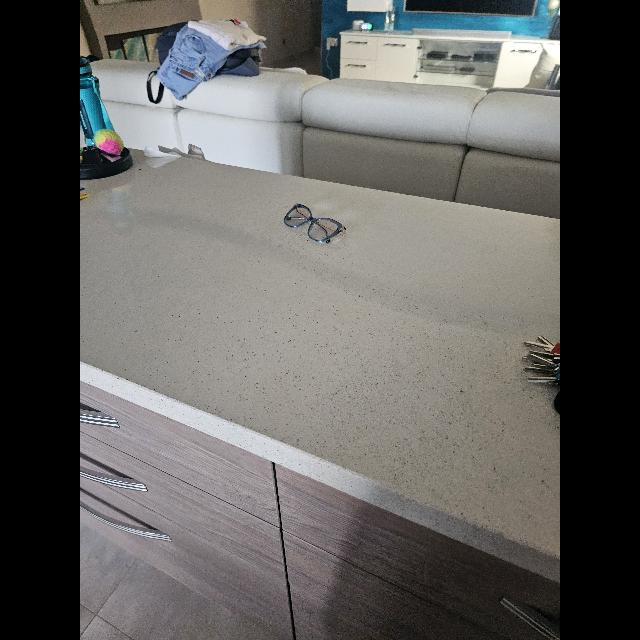Keys: (522, 336, 560, 384)
glasses: (284, 204, 346, 242)
